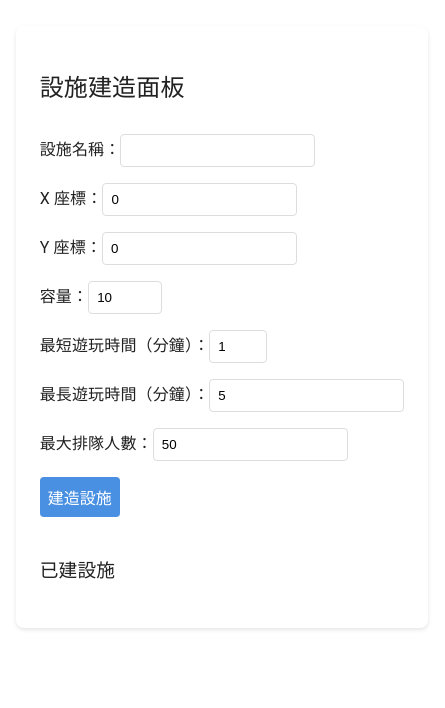
Test case: FacilityBuilderPanel › 應該可以提交建造表單
In the field labelled "設施名稱：": (218,150) [120,134,315,167], type "測試設施"
Replace the text in the number field labelled "X 座標：" with "10": (200,200) [102,183,297,216]
Replace the text in the number field labelled "Y 座標：" with "20": (200,248) [102,232,297,265]
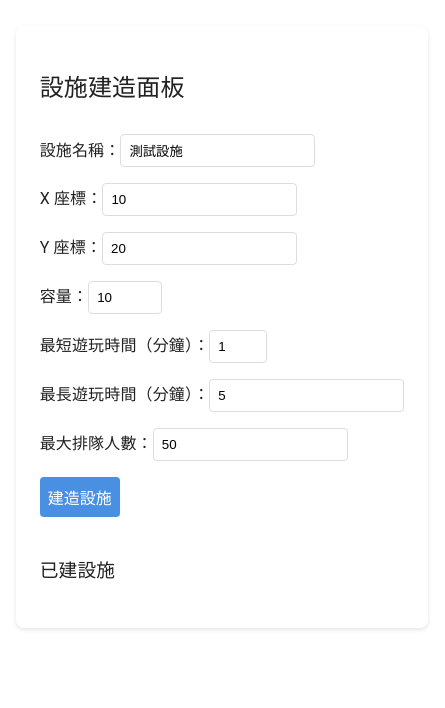
Replace the text in the number field labelled "容量：" with "50": (125,298) [88,281,162,314]
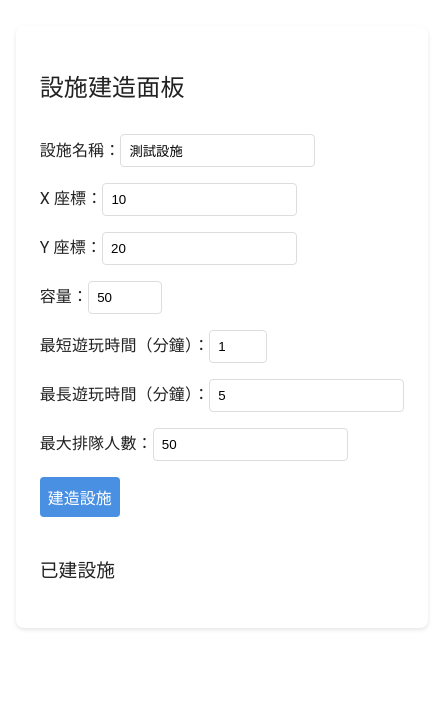
Replace the text in the number field labelled "最短遊玩時間（分鐘）：" with "3": (238,346) [209,330,267,363]
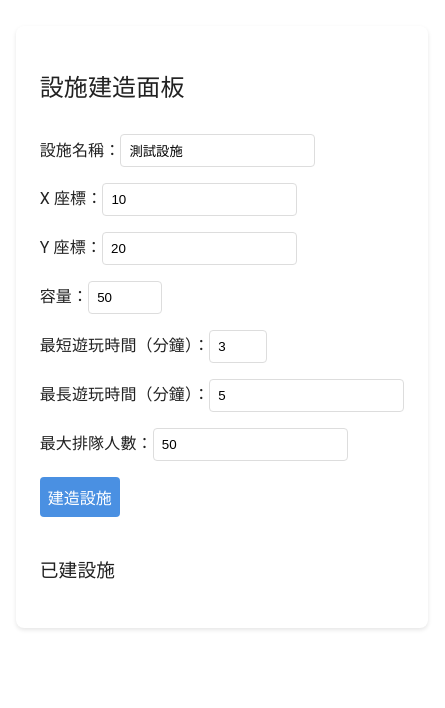
Replace the text in the number field labelled "最長遊玩時間（分鐘）：" with "8": (307,396) [209,379,404,412]
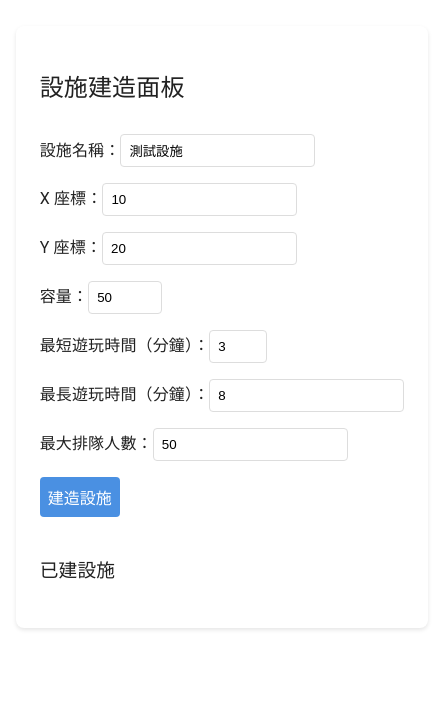
Replace the text in the number field labelled "最大排隊人數：" with "75": (250,444) [153,428,348,461]
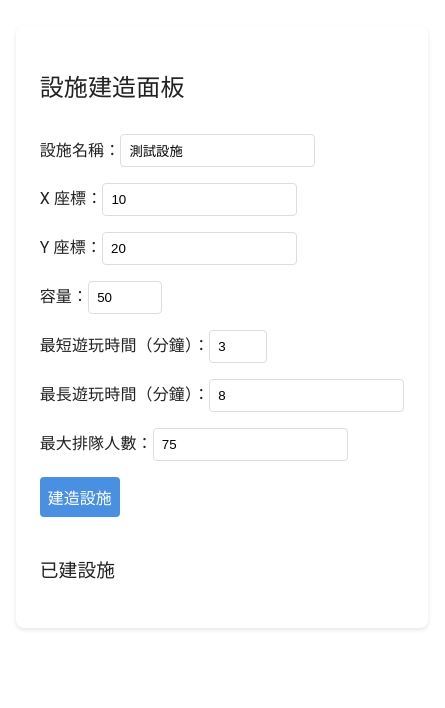
Click the button "建造設施": (80,497) [40,477,120,517]
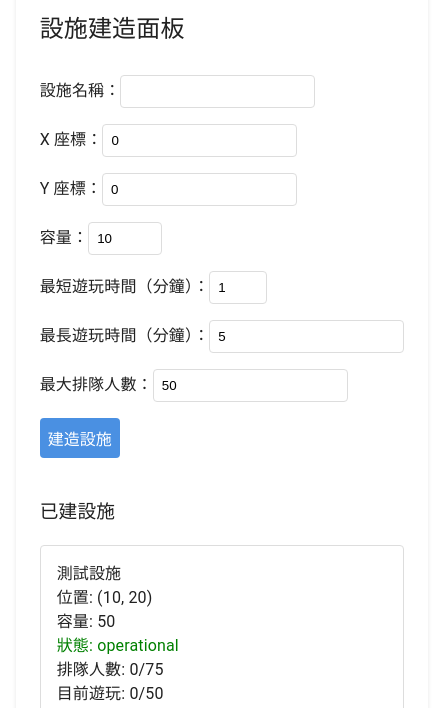
Expected: the field labelled "設施名稱：" is empty, [120,75,315,108]
Expected: the number field labelled "X 座標：" holds "0", [102,124,297,157]
Expected: the number field labelled "Y 座標：" holds "0", [102,173,297,206]
